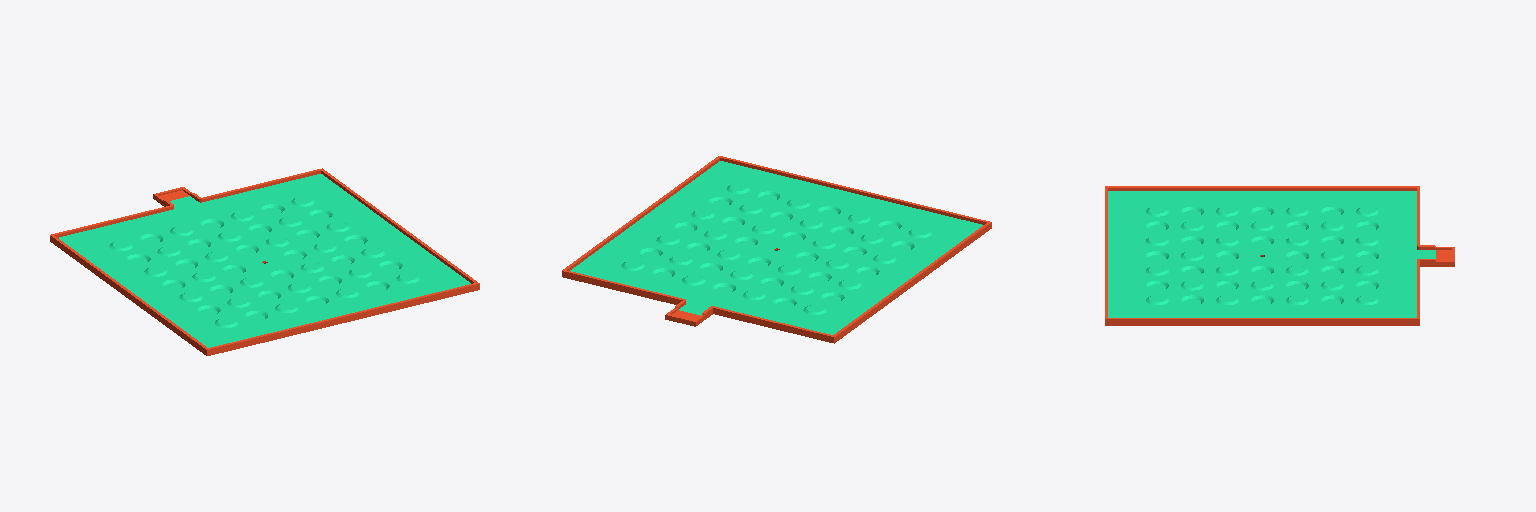
Rendered from PH_Bumpy.obj.
The picture shows the model from 3 angles: view 1: azimuth 30°, elevation 25°; view 2: azimuth 150°, elevation 25°; view 3: azimuth 270°, elevation 25°; orthographic projection.
Bounding box in the file's own units: 9 × 0.2 × 10.